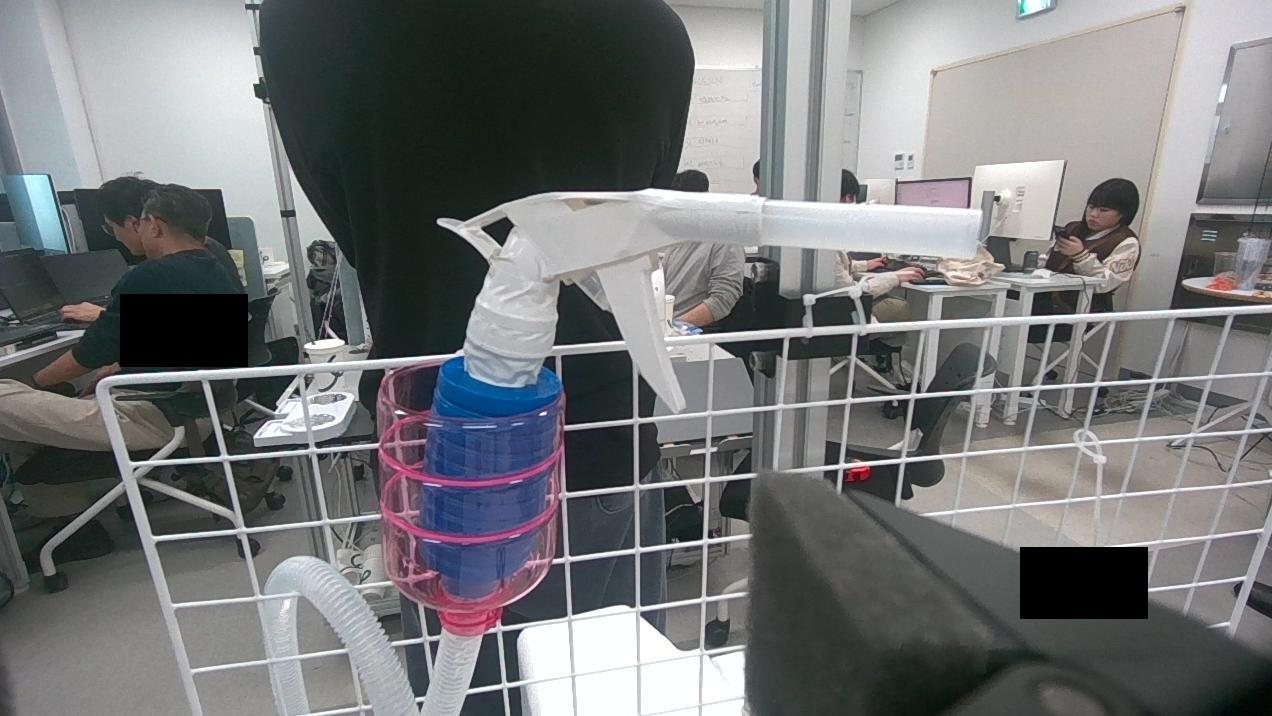Nozzle: (417, 179, 766, 585)
